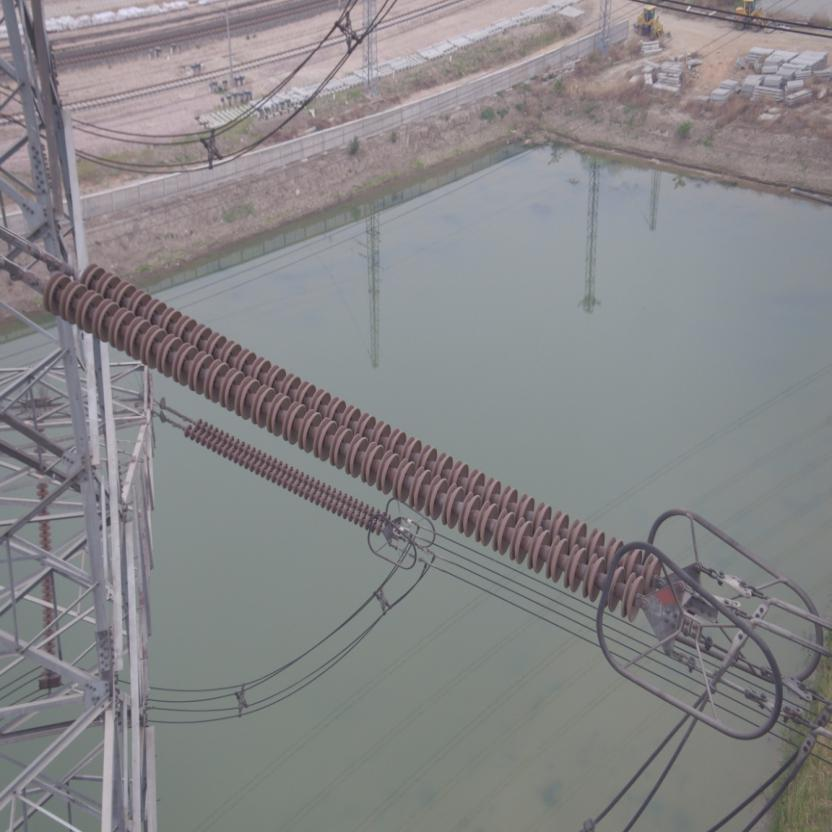insulator: (20, 252, 671, 628), (166, 413, 392, 536)
